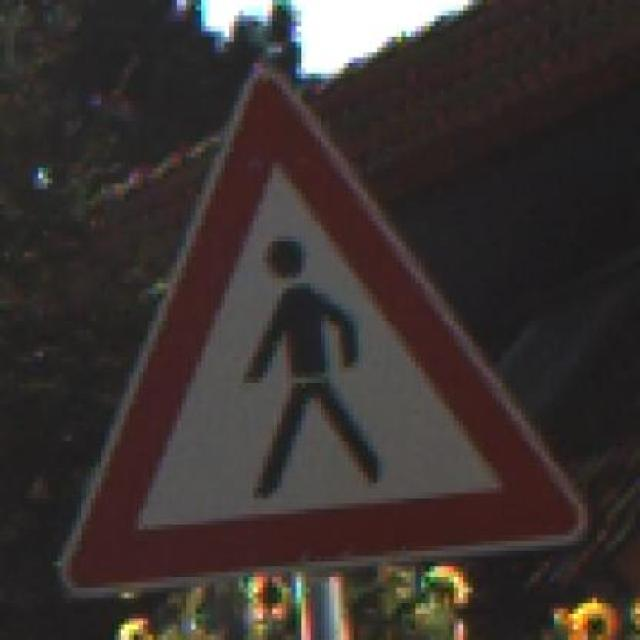Pedestrian Crossing: (48, 47, 597, 604)
